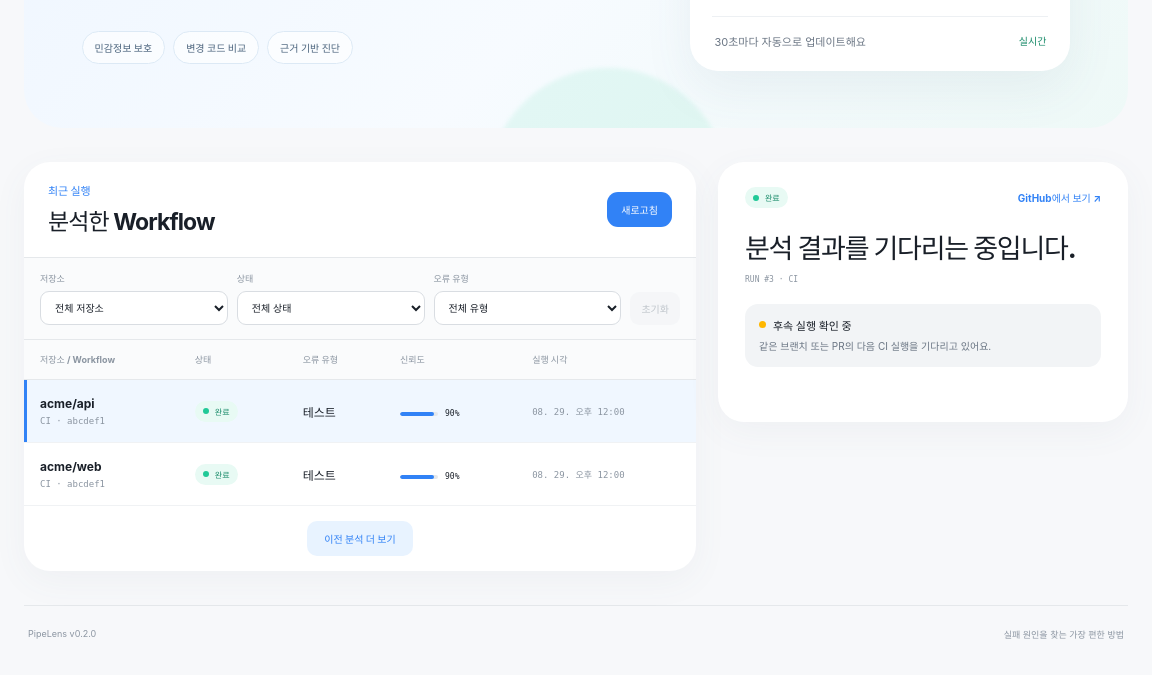
PipeLens dashboard › loads the next cursor page without duplicating existing runs
(page scrolled)
expect the text "acme/api" is shown: met, box [40,396,95,411]
Click the button "이전 분석 더 보기" at (360, 539), box [307,521,413,556]
(page scrolled)
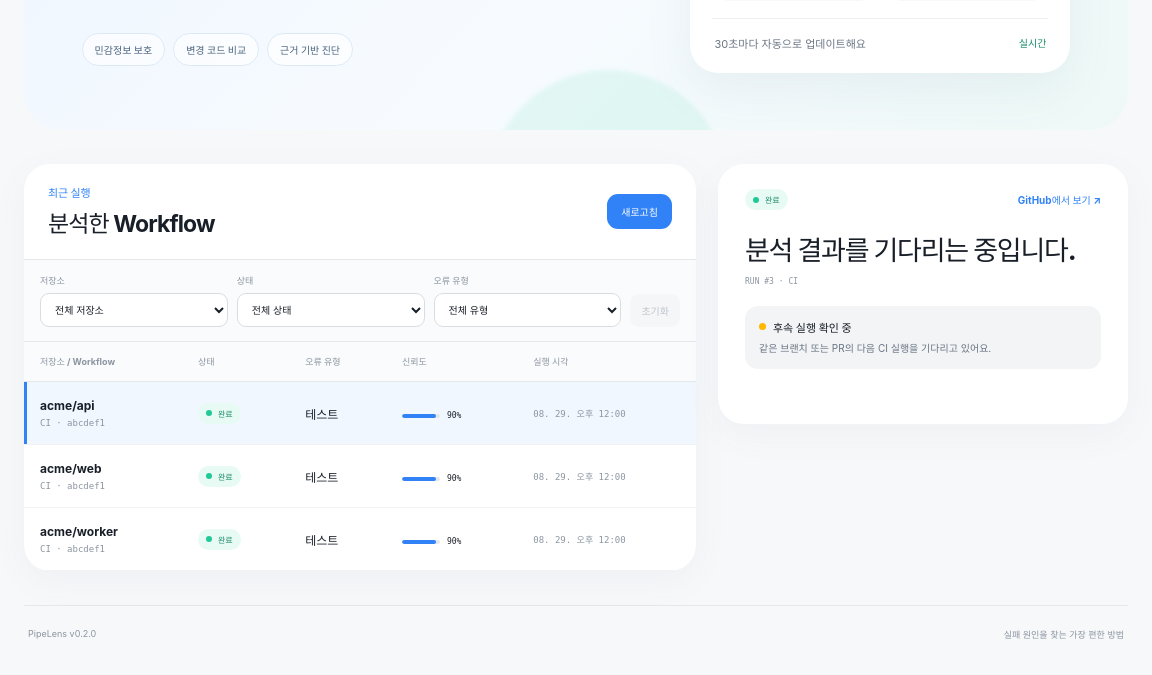
expect the text "acme/worker" is shown: met, box [40,524,118,539]
expect the text "acme/web" is shown once: met, box [40,461,102,476]
